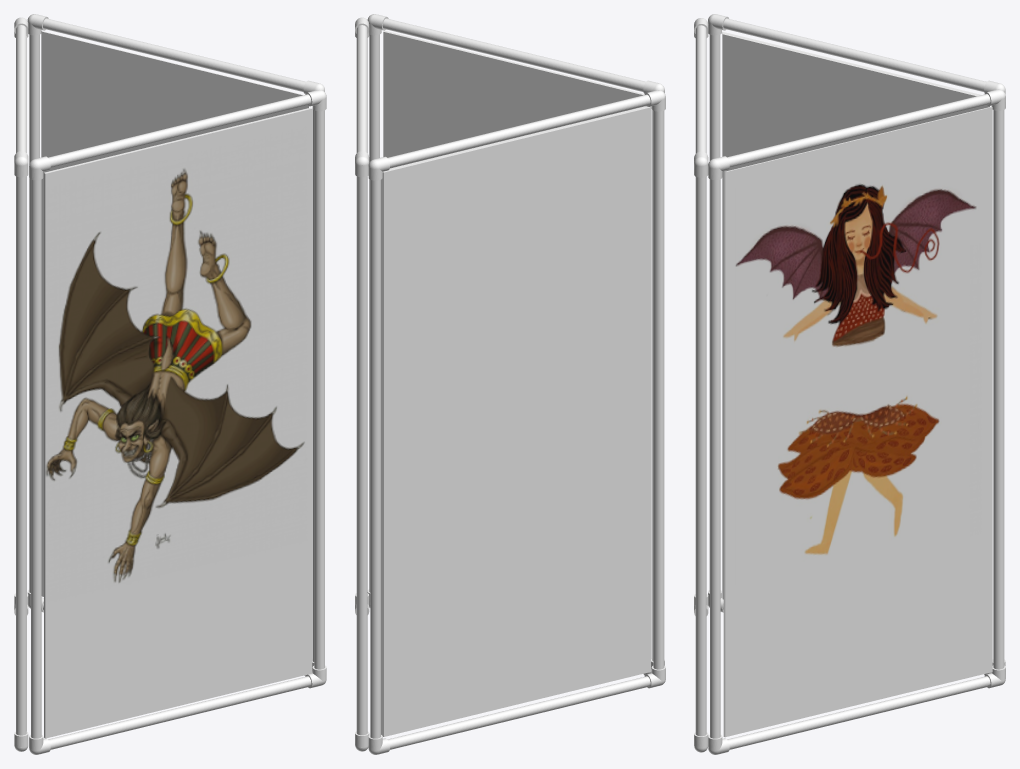
The model's file is triangular_buoy.dae.
The picture shows the model from 3 angles, left to right: view 1: azimuth 30°, elevation 25°; view 2: azimuth 150°, elevation 25°; view 3: azimuth 270°, elevation 25°; orthographic projection.
Parts seen in each view (by area): view 1: Triangular_Buoy; view 2: Triangular_Buoy; view 3: Triangular_Buoy.
Boxes of the visible parts, x1,y1,x2,y2 form: Triangular_Buoy: (14, 14, 326, 754); Triangular_Buoy: (355, 14, 665, 754); Triangular_Buoy: (694, 14, 1005, 754).
Bounding box in the file's own units: 0.7053 × 0.616 × 1.3.
1 material, 1 textured.
